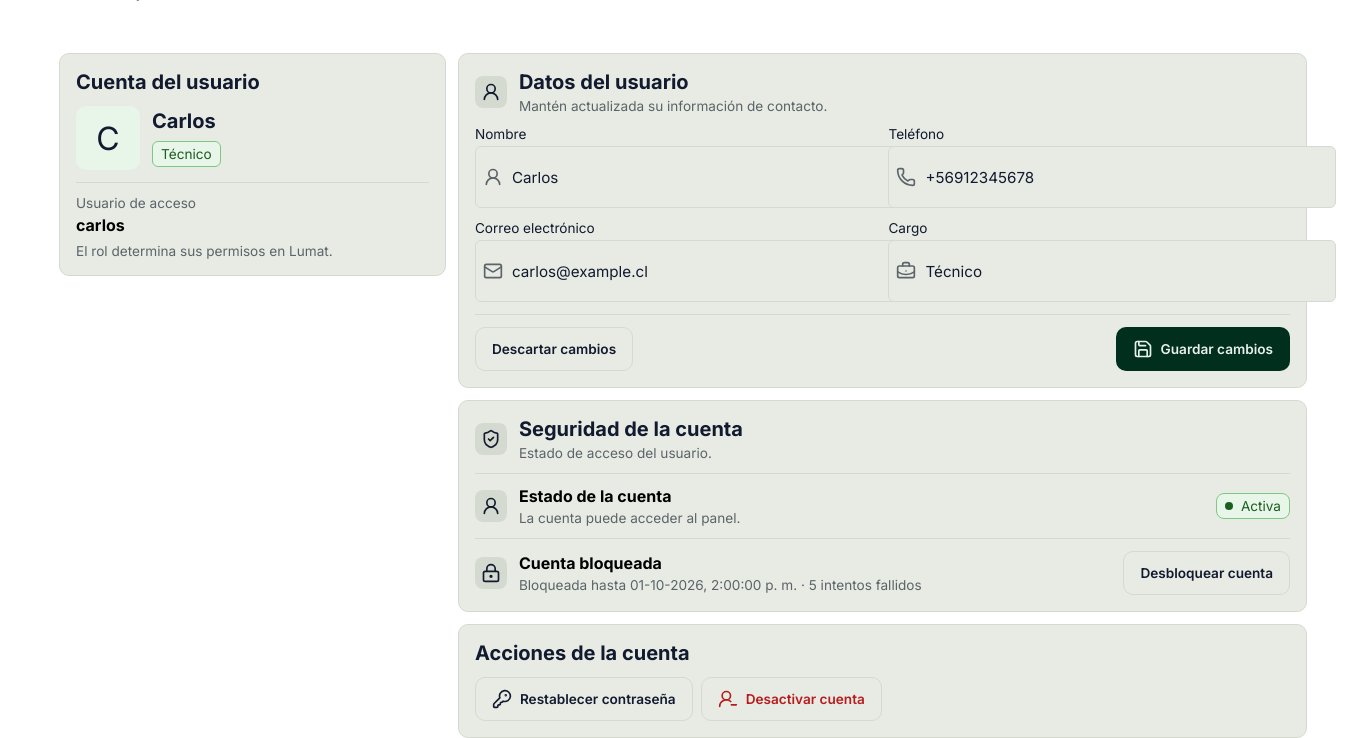
Scenario: UserFicha › toggles the real account state and shows feedback
The image size is (1366, 738).
(page scrolled)
Click the button "Desactivar cuenta".
click(791, 699)  # box [701,677,882,721]
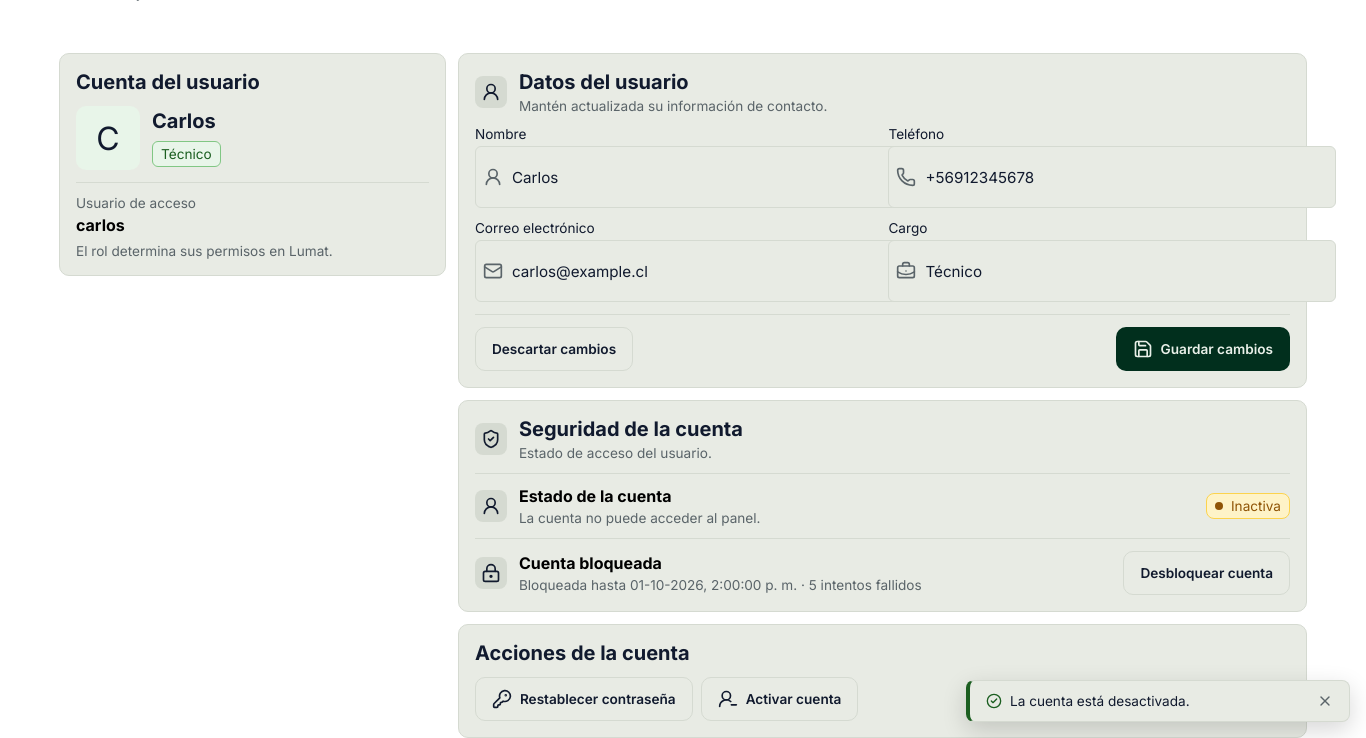
Now the text "Inactiva" is shown, box [1206,493,1290,519]
Now the text "La cuenta está desactivada." is shown, box [1010,693,1190,709]
